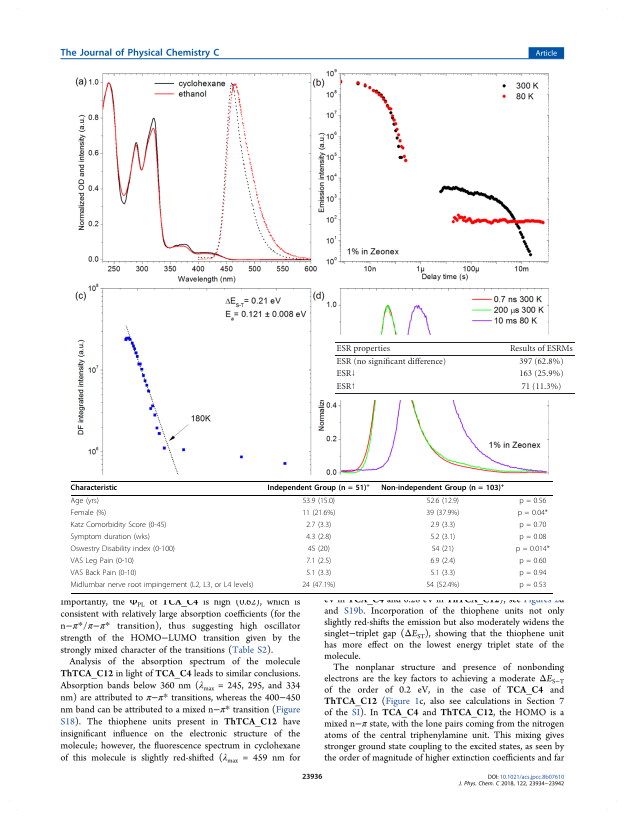borderless: (69, 480, 553, 593), (333, 340, 575, 393)
cell: (70, 581, 254, 590), (380, 482, 505, 493), (267, 482, 371, 493), (335, 357, 447, 367), (70, 545, 176, 555), (70, 521, 167, 531), (70, 533, 151, 543), (509, 344, 574, 354), (70, 569, 137, 578), (70, 557, 135, 566), (335, 344, 391, 354), (520, 381, 562, 392), (518, 357, 564, 367), (518, 369, 564, 379), (70, 484, 118, 493), (70, 509, 107, 519), (515, 545, 551, 555), (301, 497, 336, 507), (301, 509, 336, 519), (425, 509, 460, 519), (426, 497, 460, 507), (517, 509, 549, 519), (301, 581, 336, 590), (425, 581, 460, 590), (70, 497, 100, 507), (518, 497, 547, 507), (518, 521, 547, 531), (518, 533, 547, 543), (305, 521, 332, 531), (429, 521, 456, 531), (305, 533, 332, 543), (429, 533, 456, 543), (518, 557, 547, 566), (518, 569, 547, 578), (518, 581, 547, 590), (305, 557, 332, 566), (429, 557, 456, 566), (305, 569, 332, 578), (429, 569, 456, 578), (335, 381, 357, 392), (307, 545, 331, 555), (431, 545, 455, 555), (335, 369, 357, 379)
